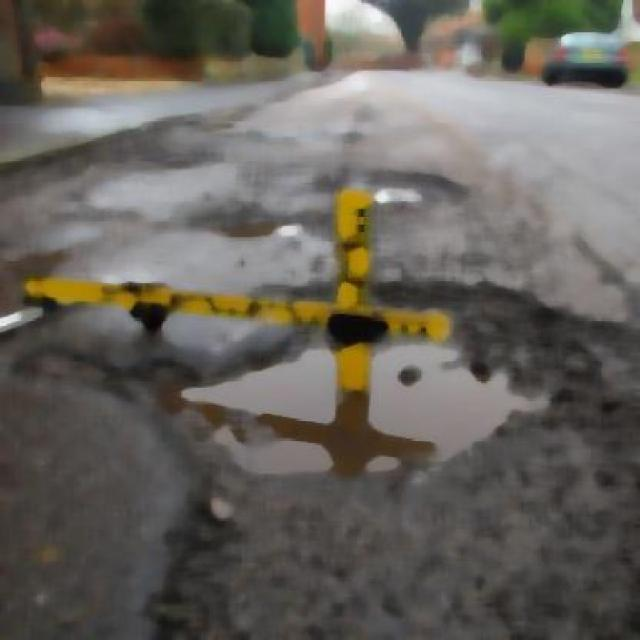Pothole: (205, 292, 520, 490)
